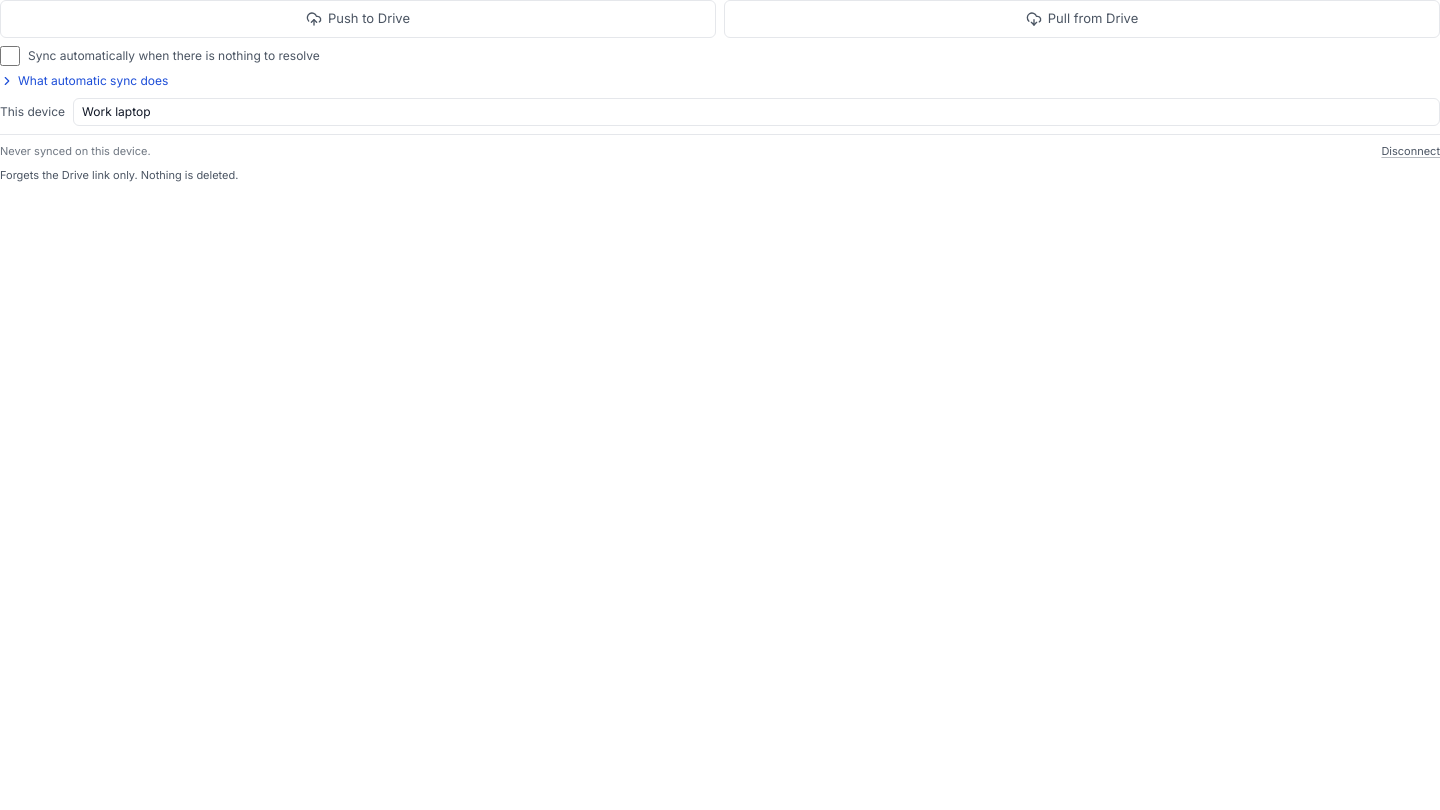
Test: DriveSyncControls › warns before a pull would discard unpushed local edits
The image size is (1440, 810).
Click the button "Pull from Drive" at (1082, 19), box [724, 0, 1439, 38]
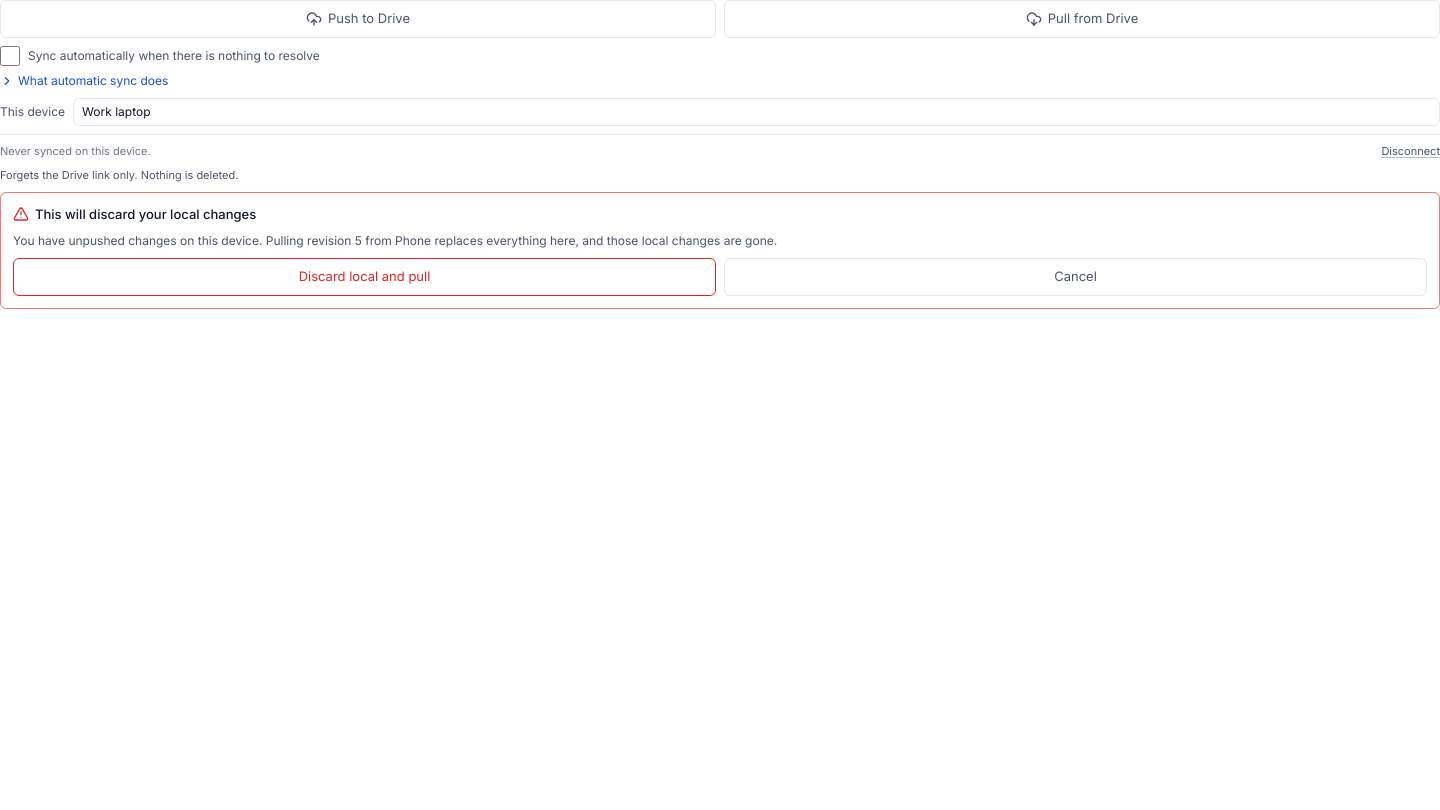
Now the dialog is shown, box [0, 192, 1439, 308]
Now the text "unpushed changes" is shown, box [13, 233, 355, 248]
Now the text "This will discard your local changes" is shown, box [13, 206, 256, 222]
